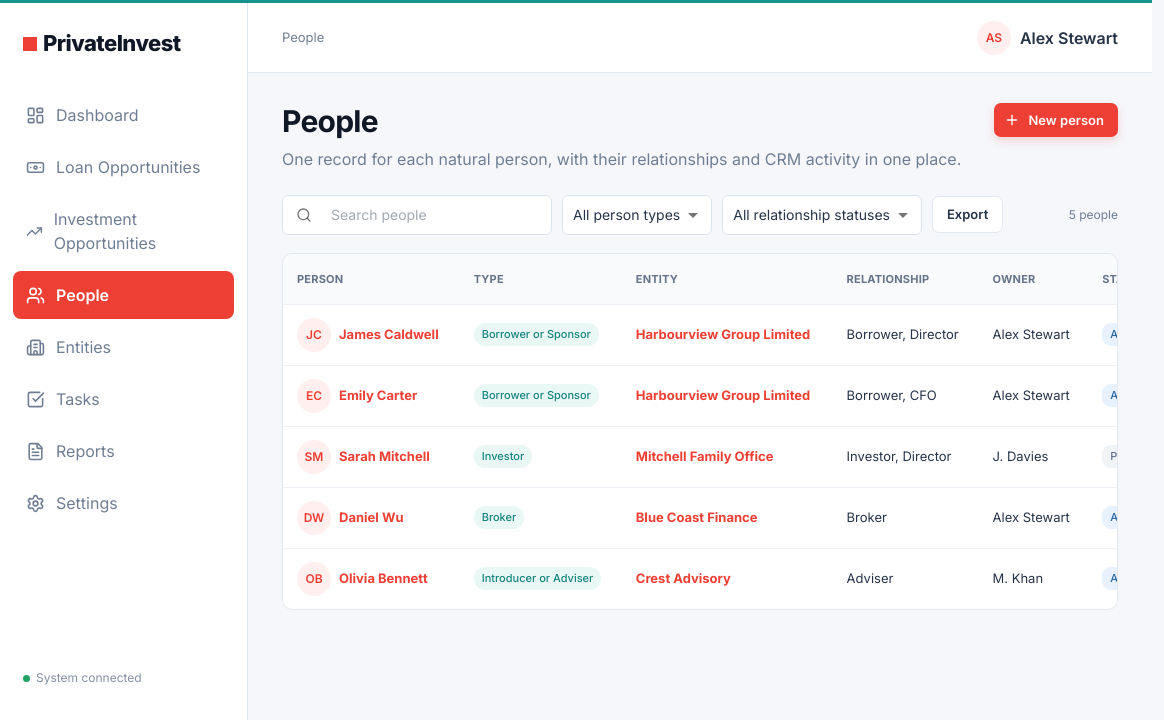
People › lists people with their linked Entity and filters by search
Check: the link "James Caldwell" is shown, box [339,325,439,344]
Check: the 1st link "Harbourview Group Limited" is shown, box [636,326,810,342]
Type "olivia" into the search field labelled "Search people". click: (436, 215)
box: [320,195,552,235]
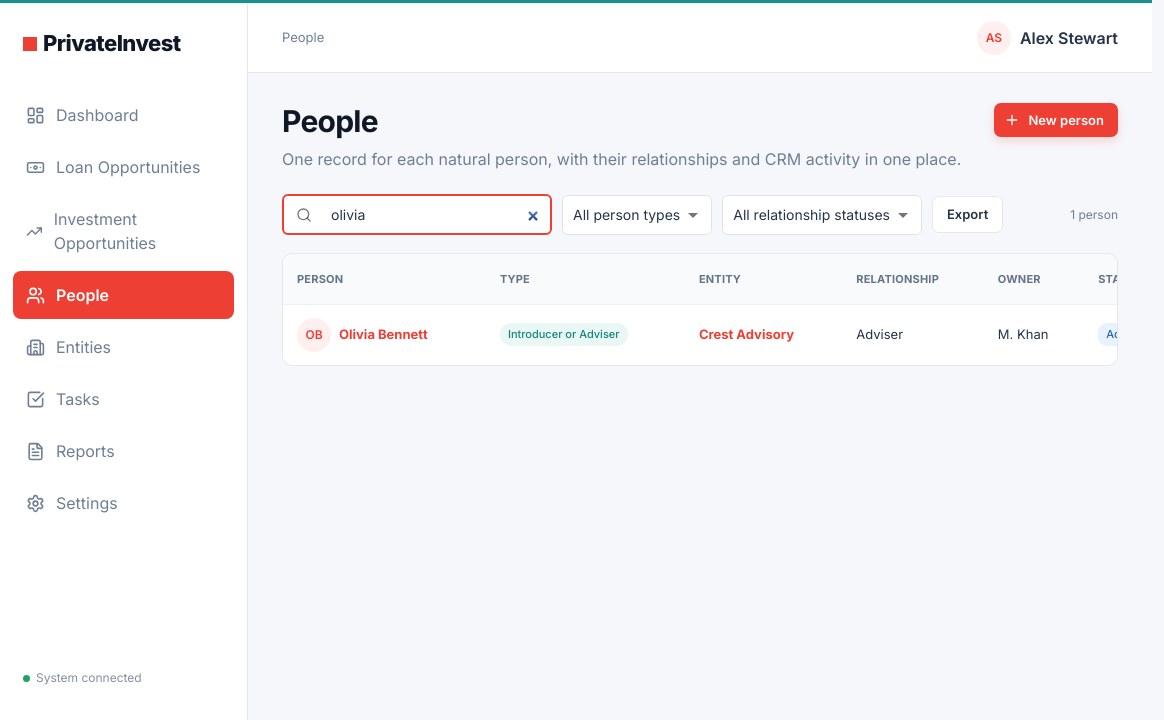
Check: the link "Olivia Bennett" is shown, box [339,325,428,344]
Check: the link "James Caldwell" is gone
